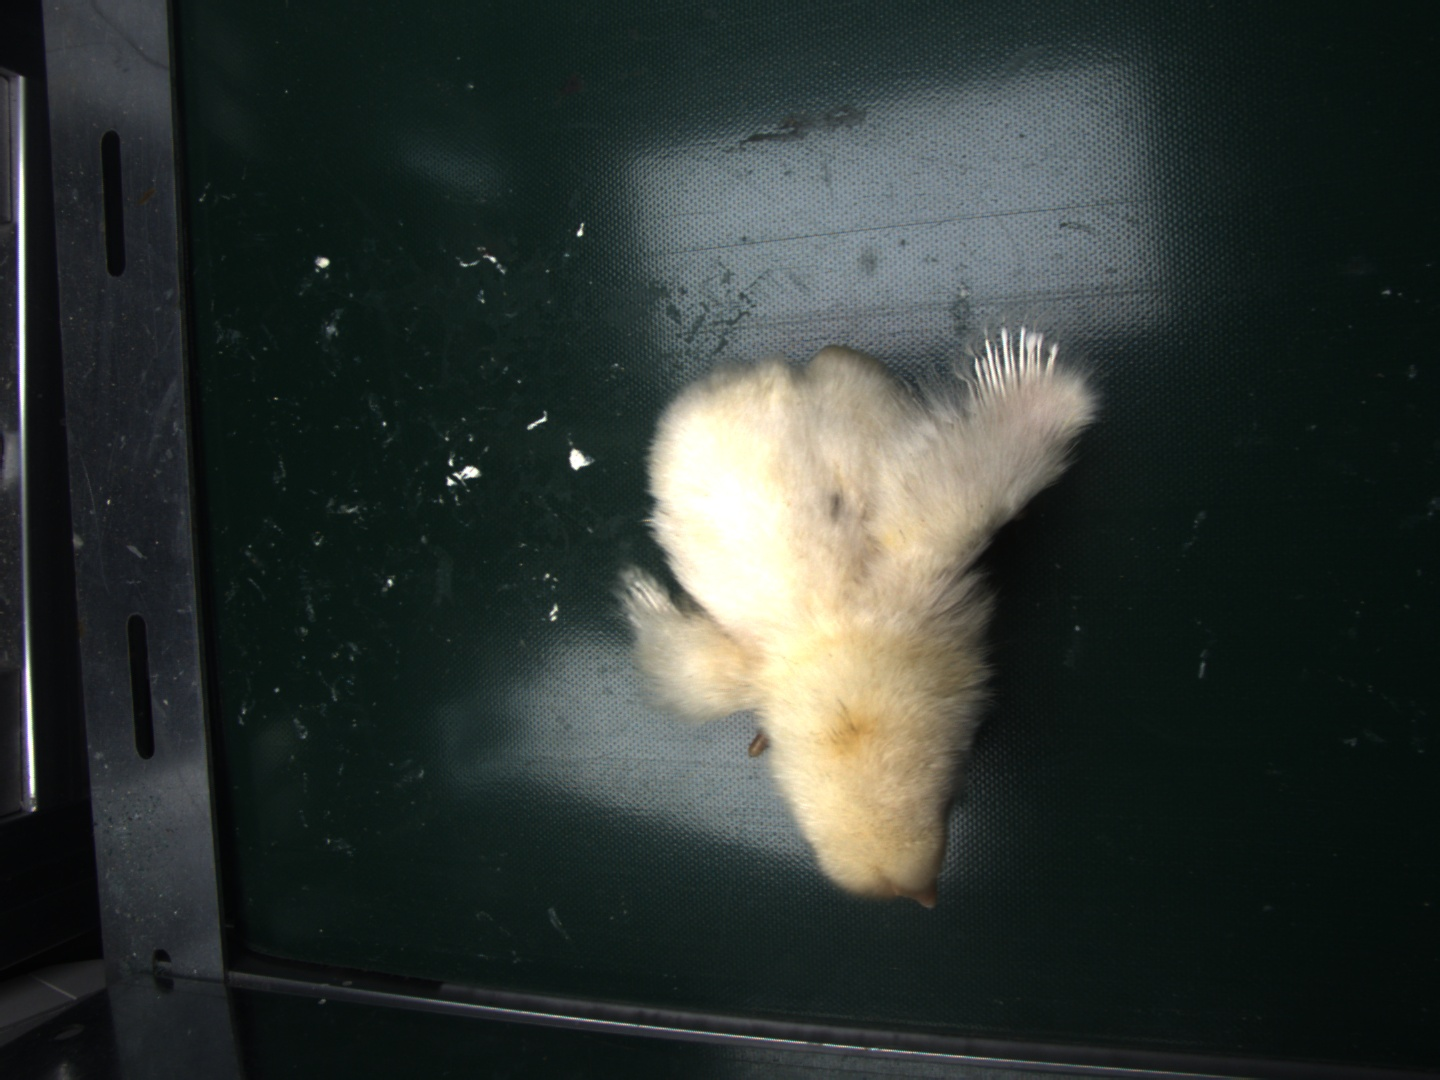male: (963, 322, 1061, 398)
